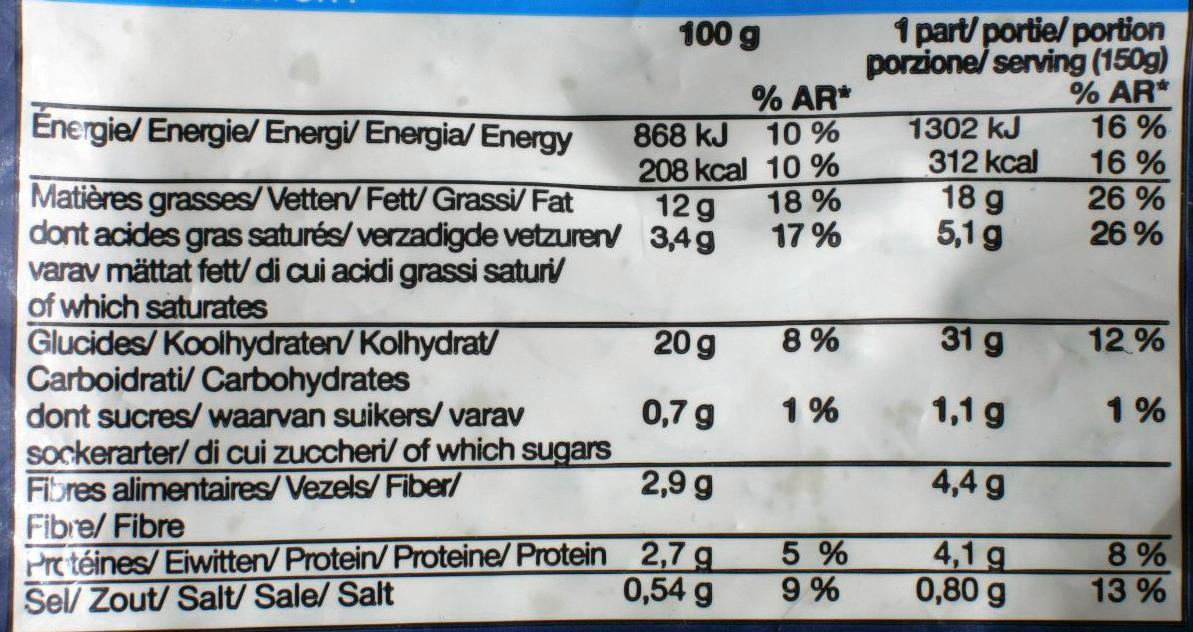column: (25, 105, 616, 615), (906, 116, 1043, 615), (624, 122, 748, 610), (755, 81, 854, 605), (1090, 113, 1175, 609)
line: (31, 220, 1154, 317), (41, 13, 1164, 106), (30, 328, 1165, 392), (26, 400, 1166, 459), (28, 476, 1160, 534), (31, 111, 1174, 151), (27, 581, 1171, 615), (32, 184, 1167, 213), (36, 153, 1171, 180), (26, 545, 1166, 569)
table: (20, 1, 1186, 623)
